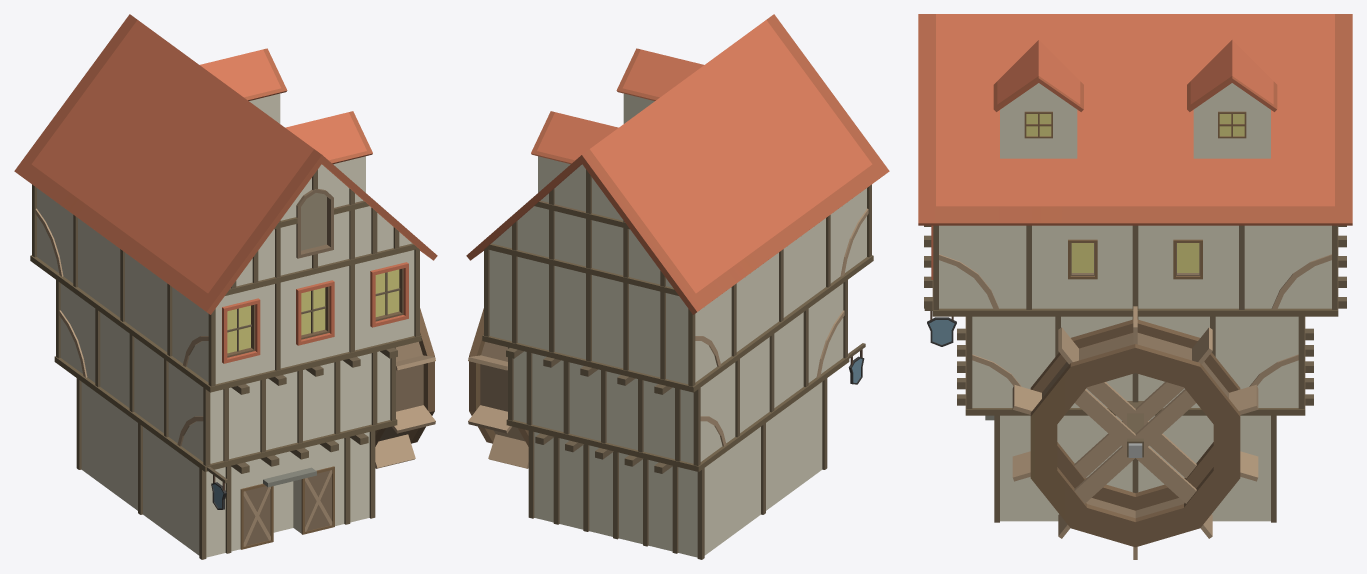
The model's file is House_17.fbx.
The picture shows the model from 3 angles, left to right: view 1: azimuth 30°, elevation 25°; view 2: azimuth 150°, elevation 25°; view 3: azimuth 270°, elevation 25°; orthographic projection. The views are drawn at different scales.
Visible parts, largest first — view 1: House_17; view 2: House_17; view 3: House_17.
Boxes of the visible parts, x1,y1,x2,y2 form: House_17: (14, 14, 437, 559); House_17: (466, 14, 889, 559); House_17: (918, 14, 1352, 559).
Size of the model in its own units: 135 by 184 by 157.
1 material, 1 textured.
